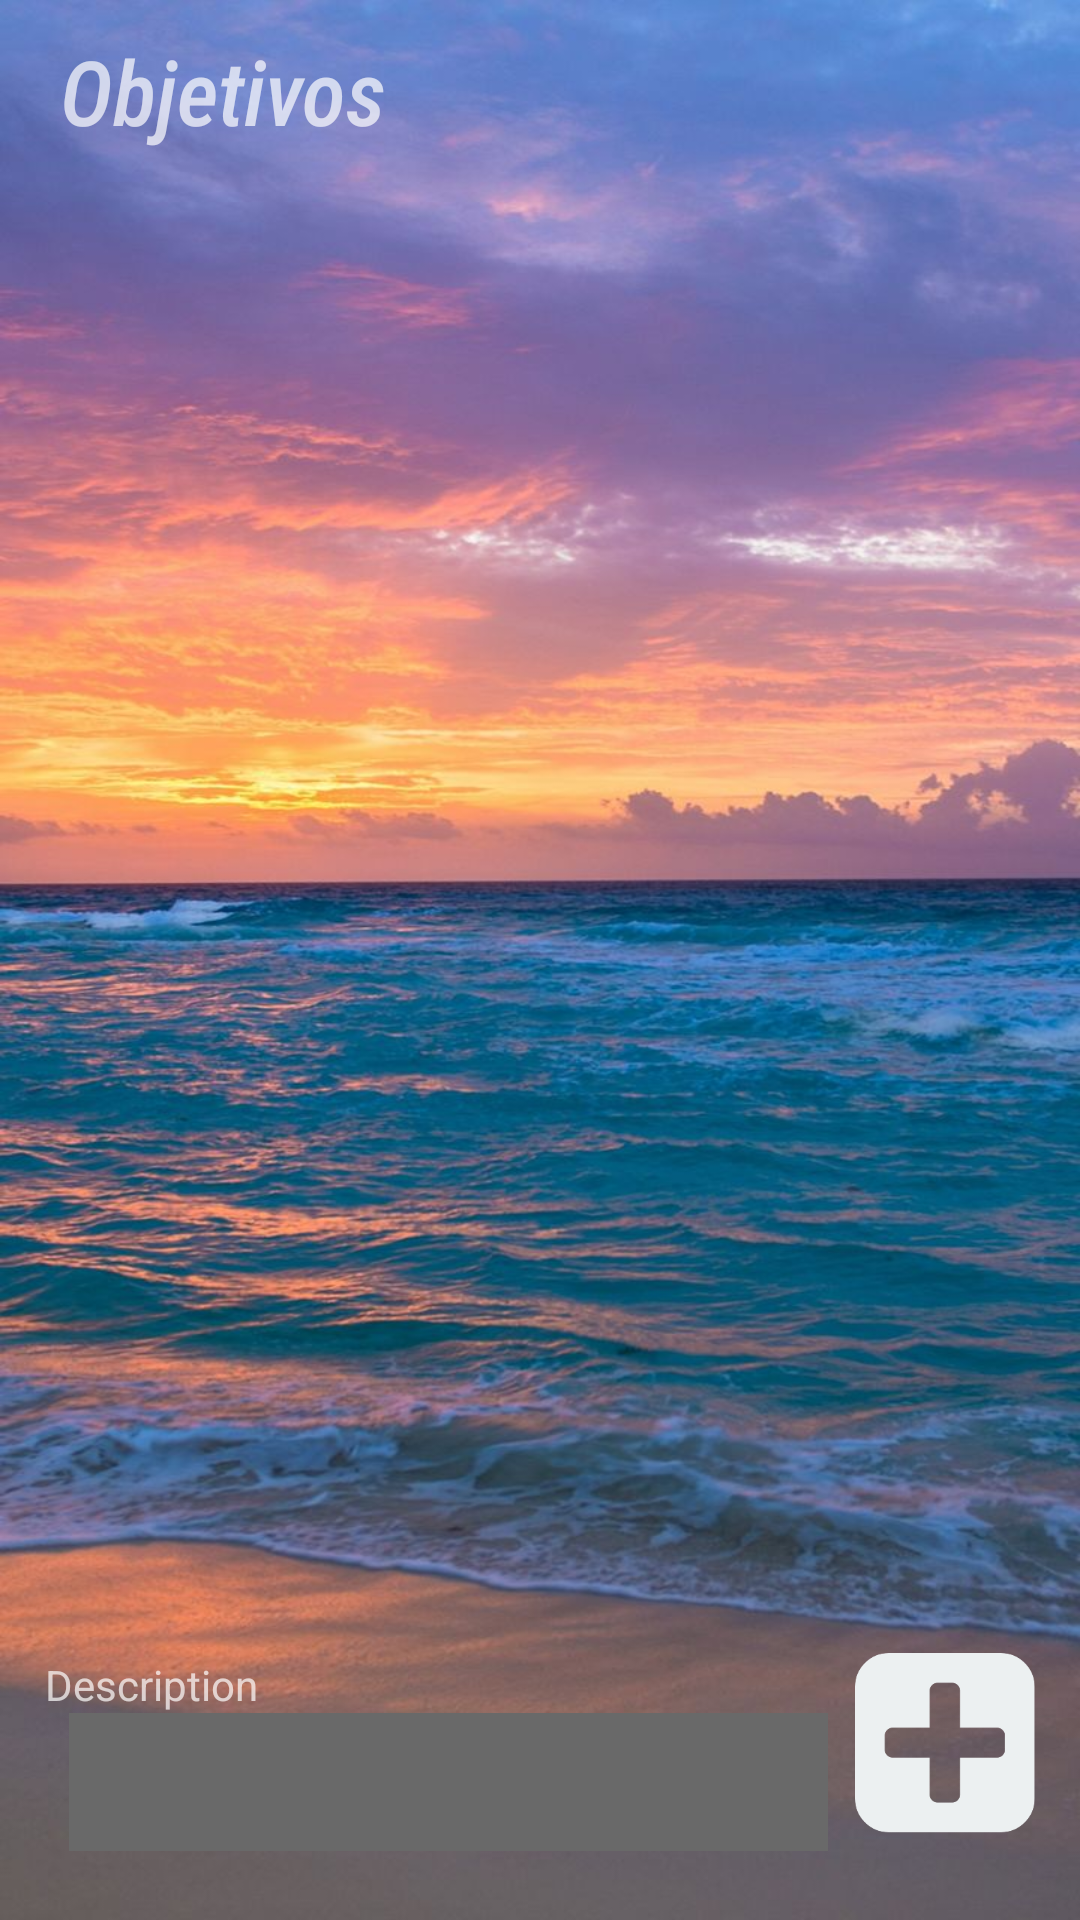

Where icons sit on this 1080x1920 app screen, as bbox(x1, y1, x2, y2):
plus: bbox(855, 1653, 1035, 1833)
